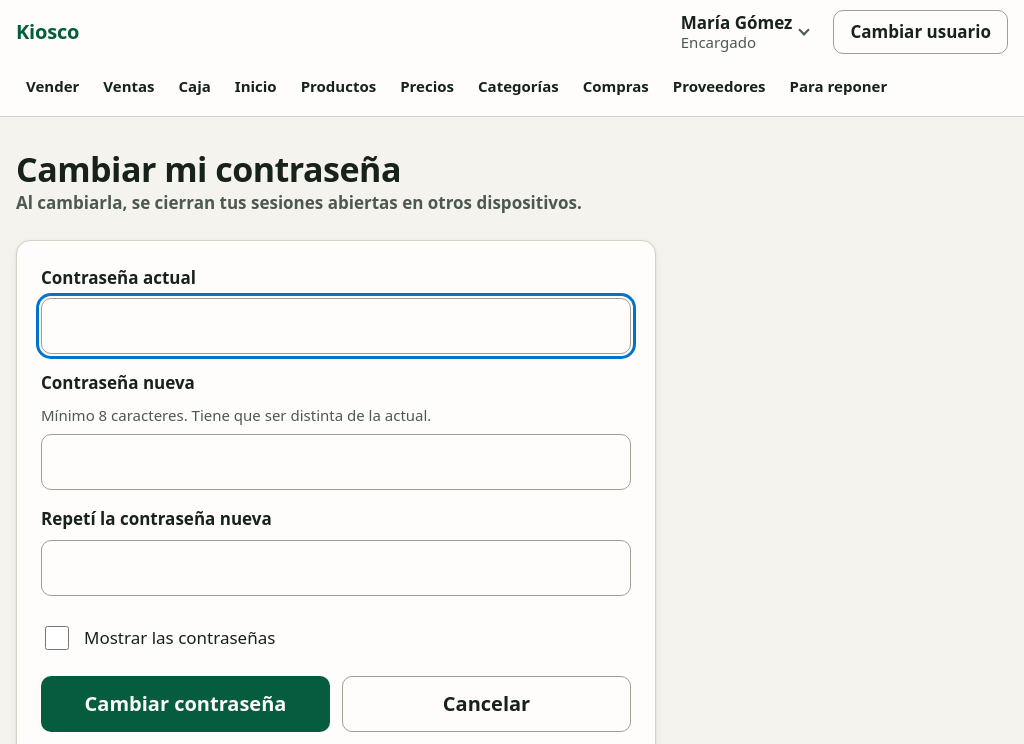
Test case: Cambiar mi contraseña (modo voluntario) › al terminar avisa y se queda en la pantalla
The image size is (1024, 744).
Type "clave-vieja-1" into the password field labelled "Contraseña actual".
click(336, 326); type("clave-vieja-1")  # box top-left (41, 298), bottom-right (631, 354)
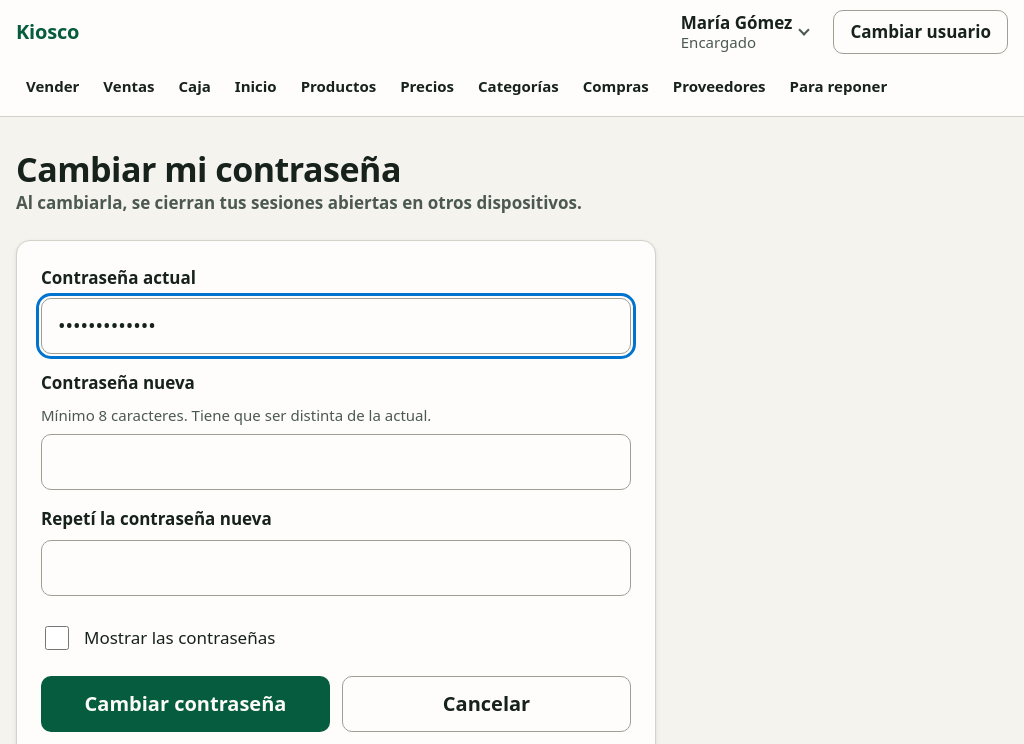
Type "clave-nueva-2" into the password field labelled "Contraseña nueva".
click(336, 462); type("clave-nueva-2")  # box top-left (41, 434), bottom-right (631, 490)
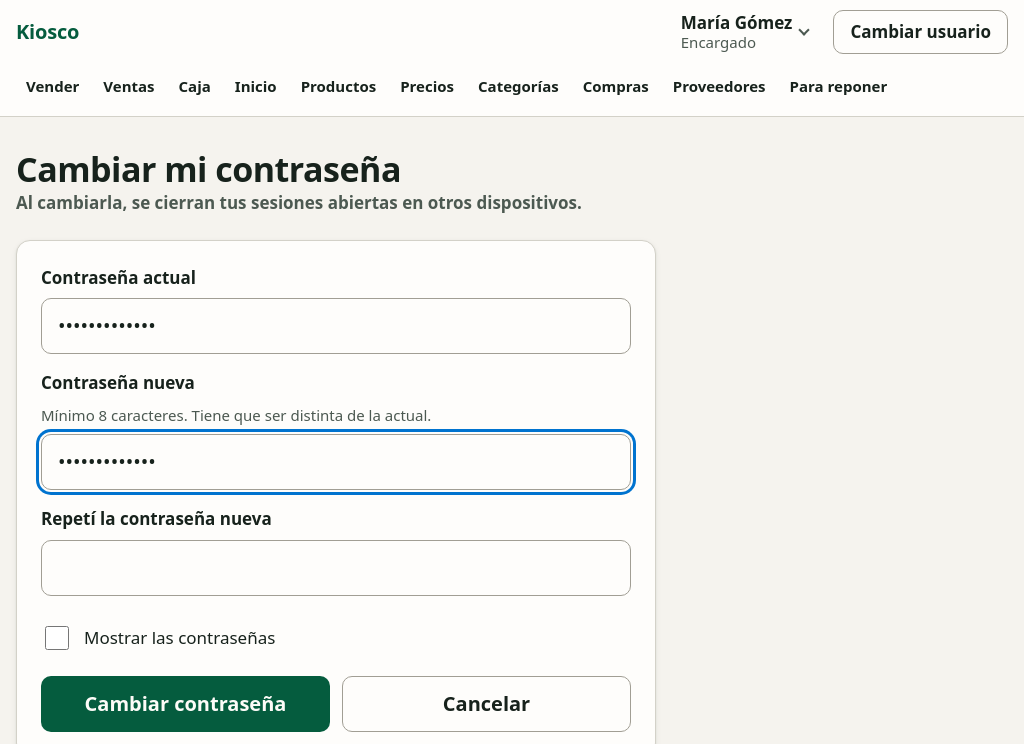
Type "clave-nueva-2" into the password field labelled "Repetí la contraseña nueva".
click(336, 568); type("clave-nueva-2")  # box top-left (41, 540), bottom-right (631, 596)
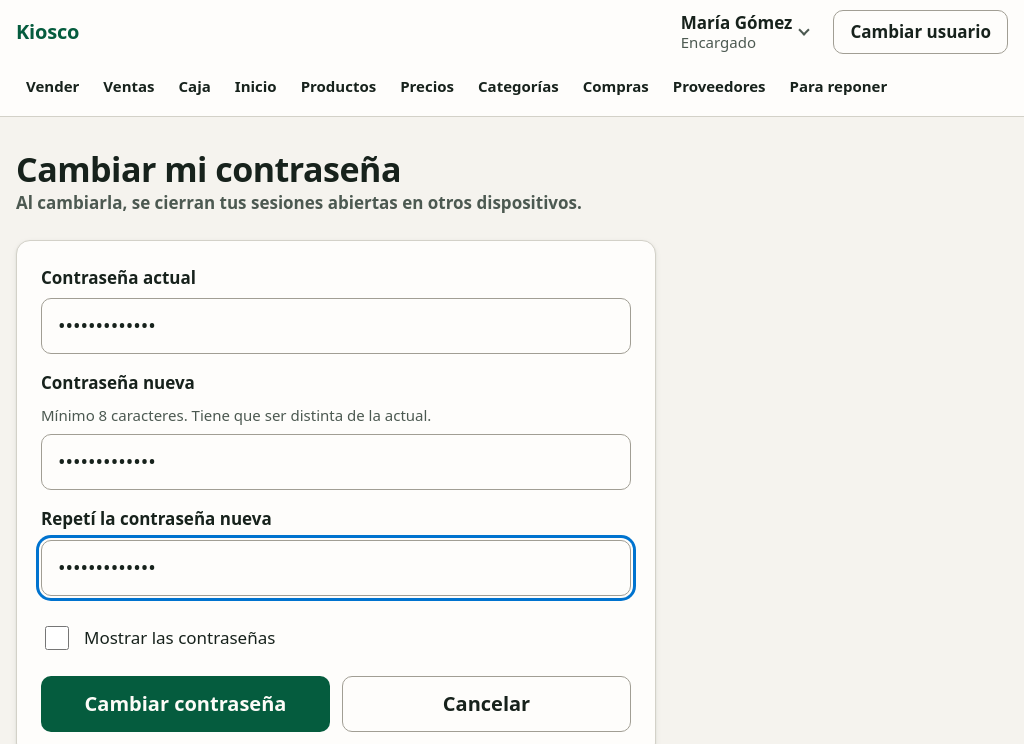
Click the button "Cambiar contraseña".
click(186, 704)  # box top-left (41, 676), bottom-right (330, 732)
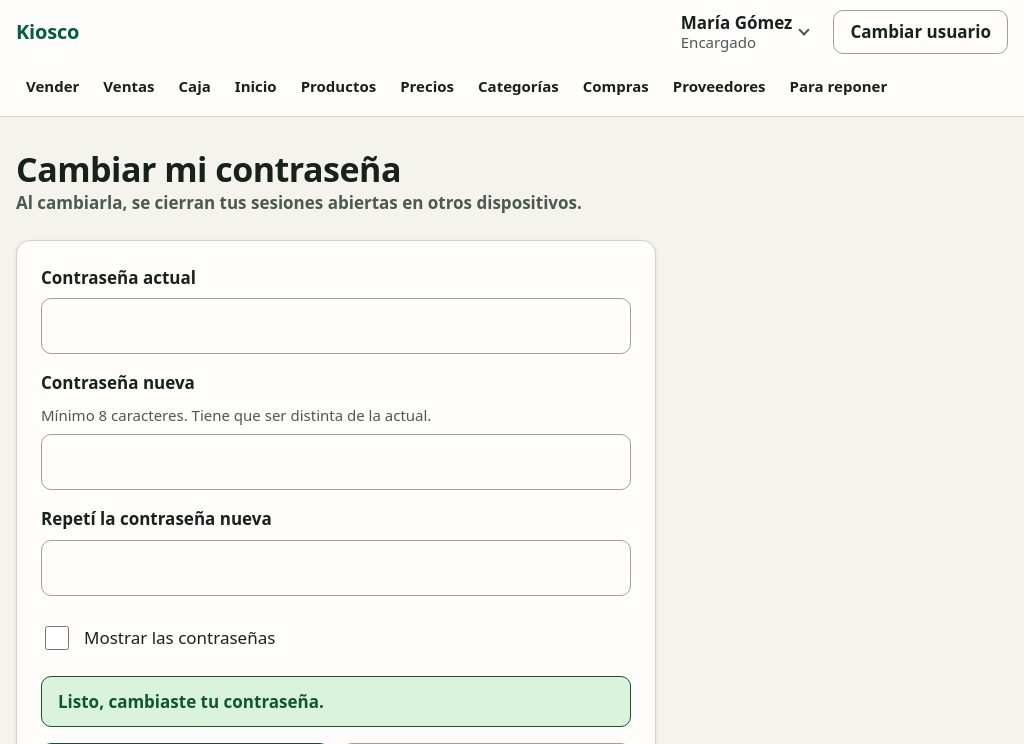
Expected: the text "Listo, cambiaste tu contraseña." is shown, top-left (41, 676), bottom-right (631, 727)
